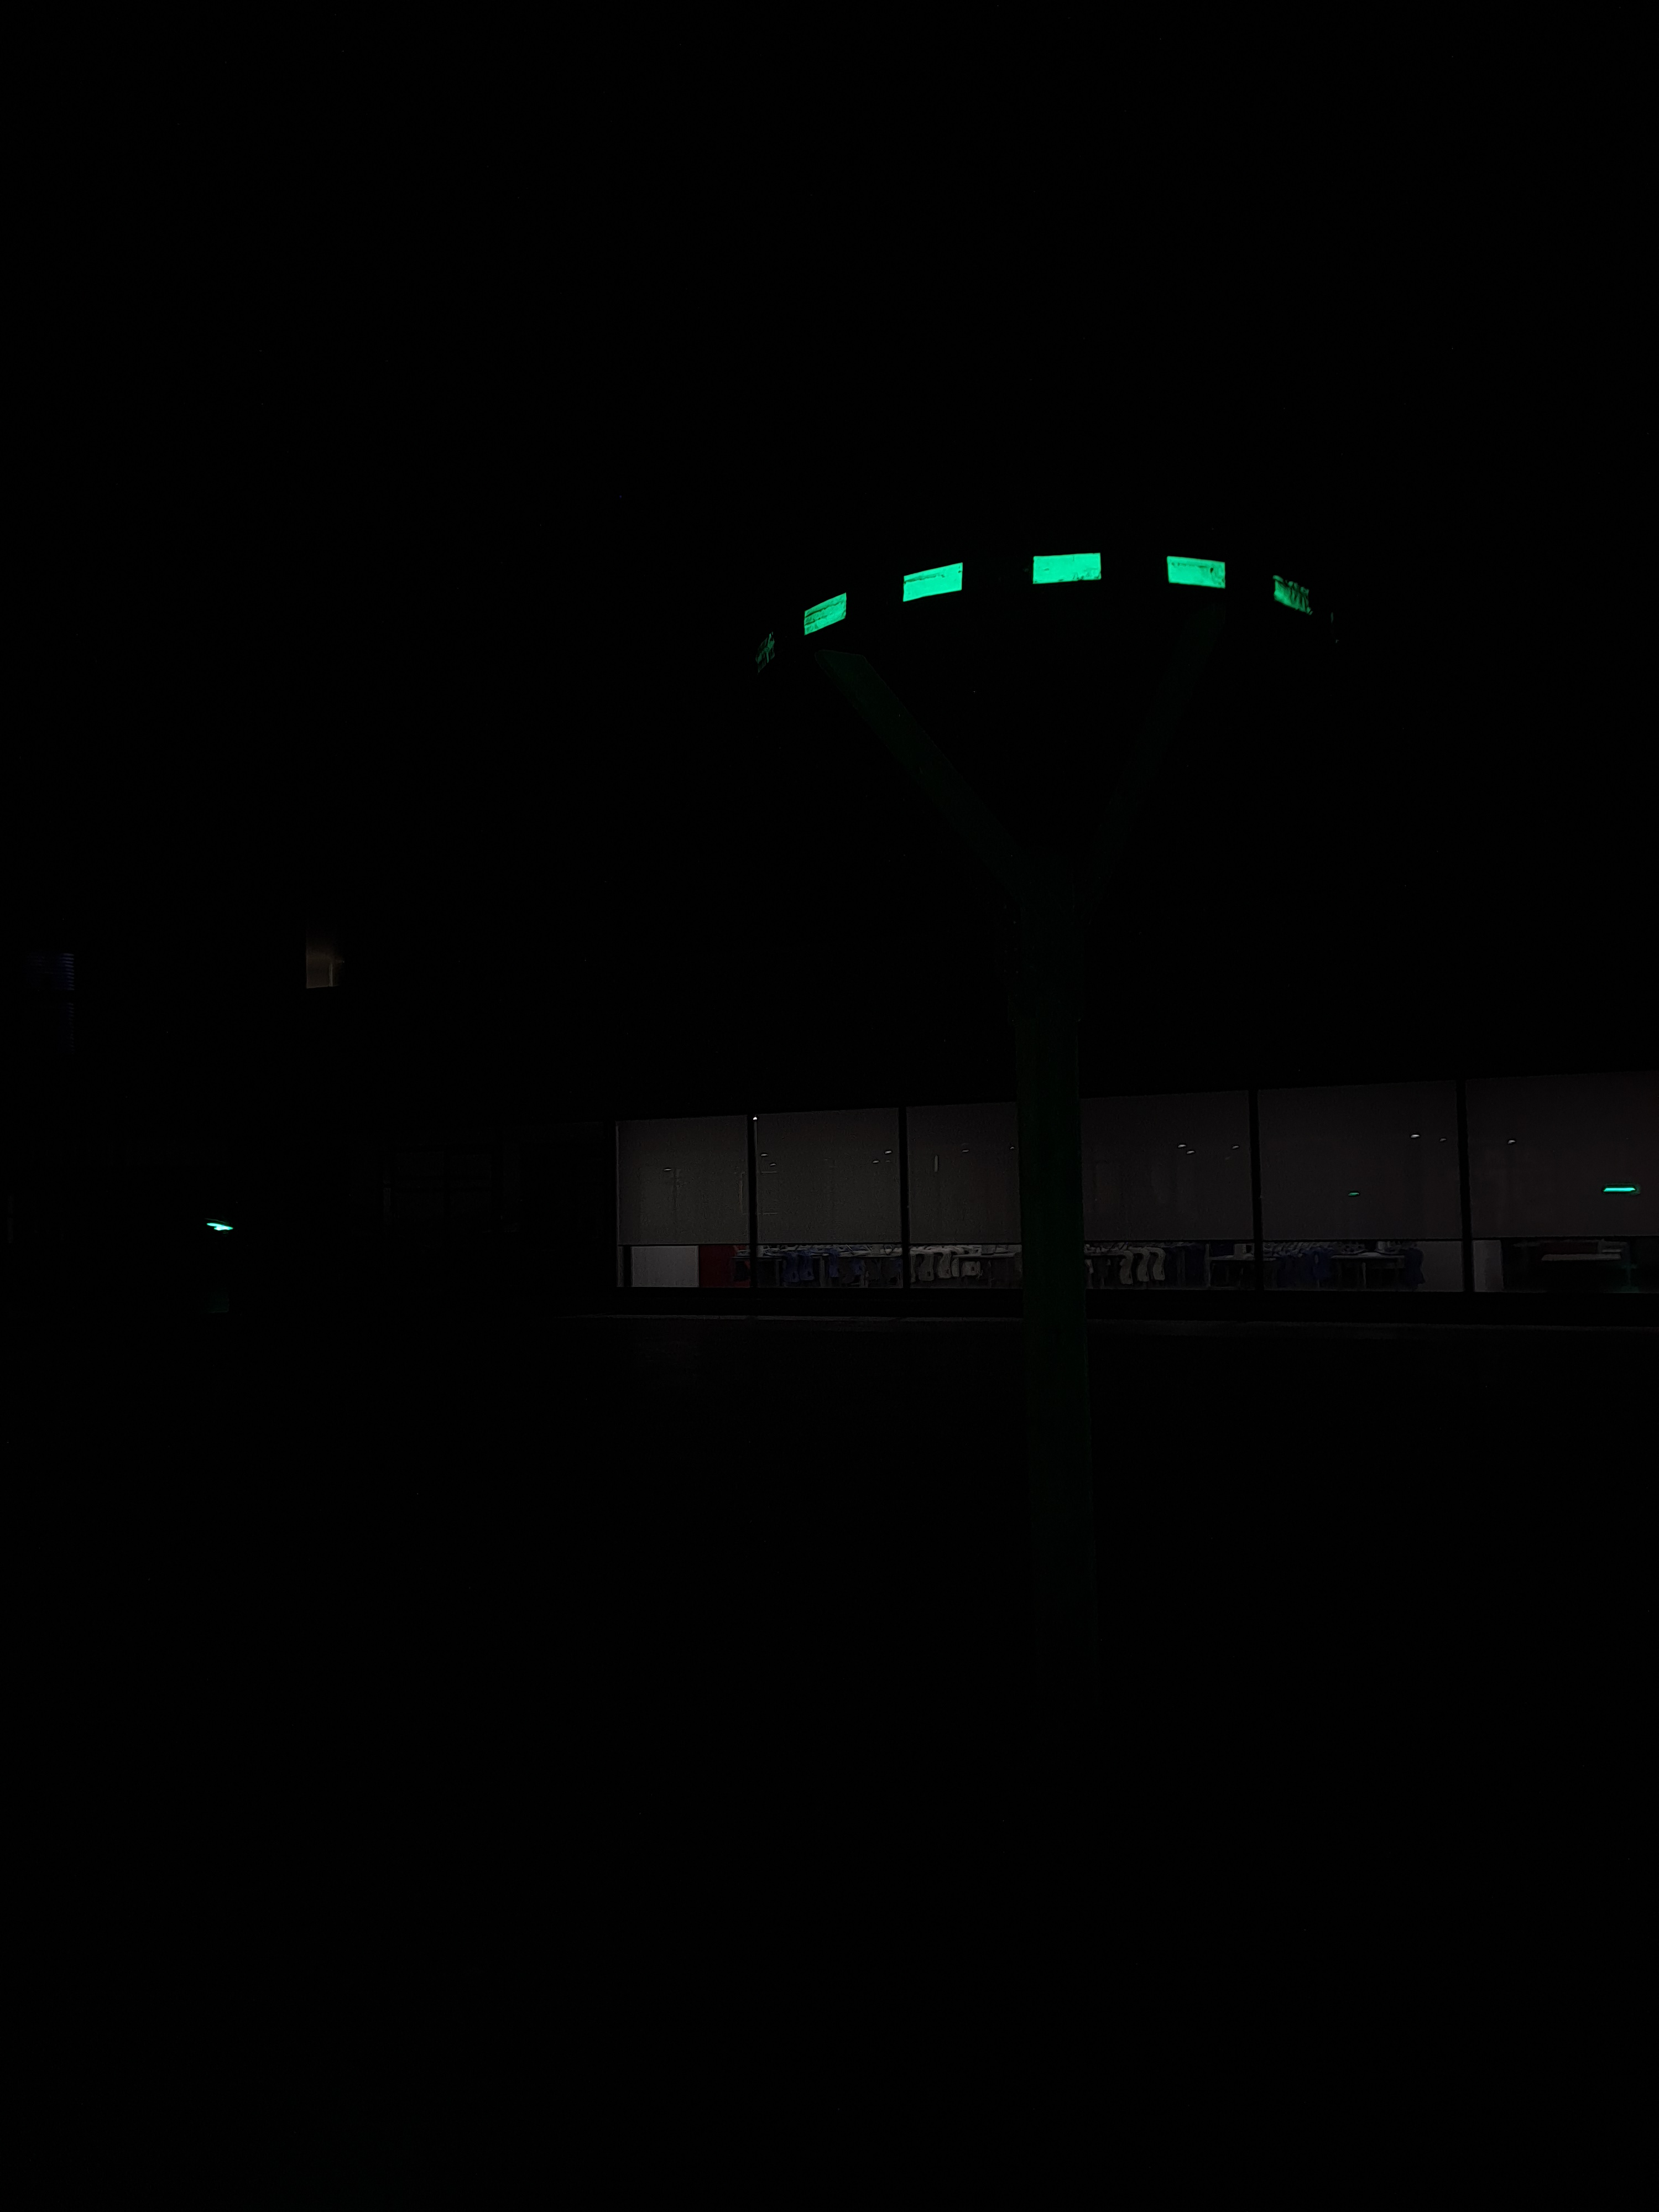hoop: (793, 552, 1321, 639)
